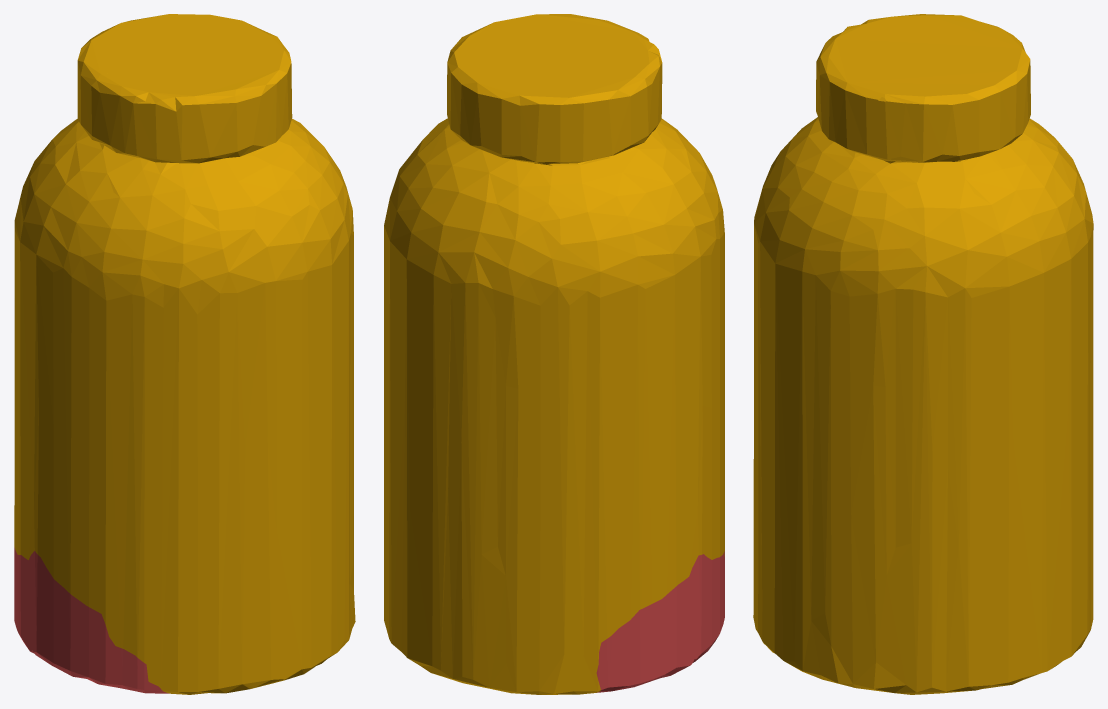
File: fractured_6_2pcs.glb
3 views of the same model, side by side, from view 1: azimuth 30°, elevation 25°; view 2: azimuth 150°, elevation 25°; view 3: azimuth 270°, elevation 25° (orthographic).
Visible parts, largest first — view 1: piece_0.obj, piece_1.obj; view 2: piece_0.obj, piece_1.obj; view 3: piece_0.obj.
Part boxes in pixels (x1,y1,x2,y2): piece_0.obj: (14, 14, 355, 694); piece_1.obj: (14, 547, 168, 693); piece_0.obj: (384, 14, 724, 694); piece_1.obj: (596, 551, 724, 692); piece_0.obj: (753, 14, 1093, 694).
Bounding box in the file's own units: 0.5393 × 1 × 0.5392.
